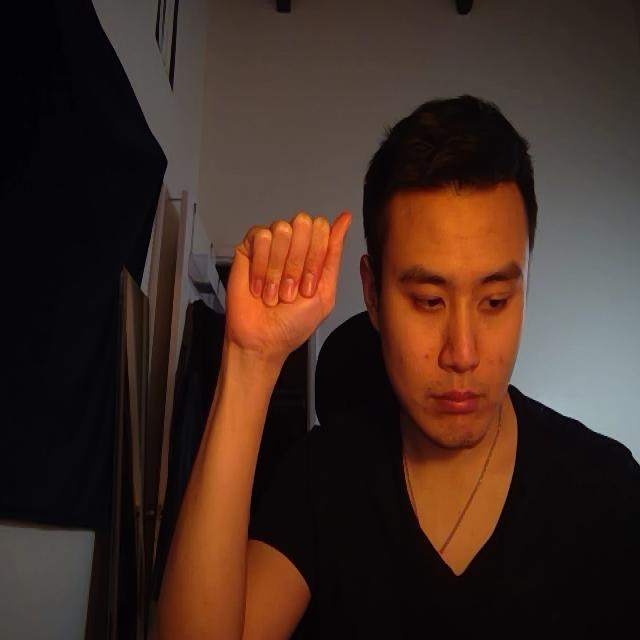A: (214, 173, 363, 412)
